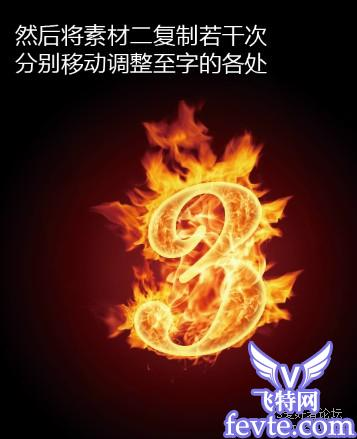fire: (114, 126, 276, 370)
